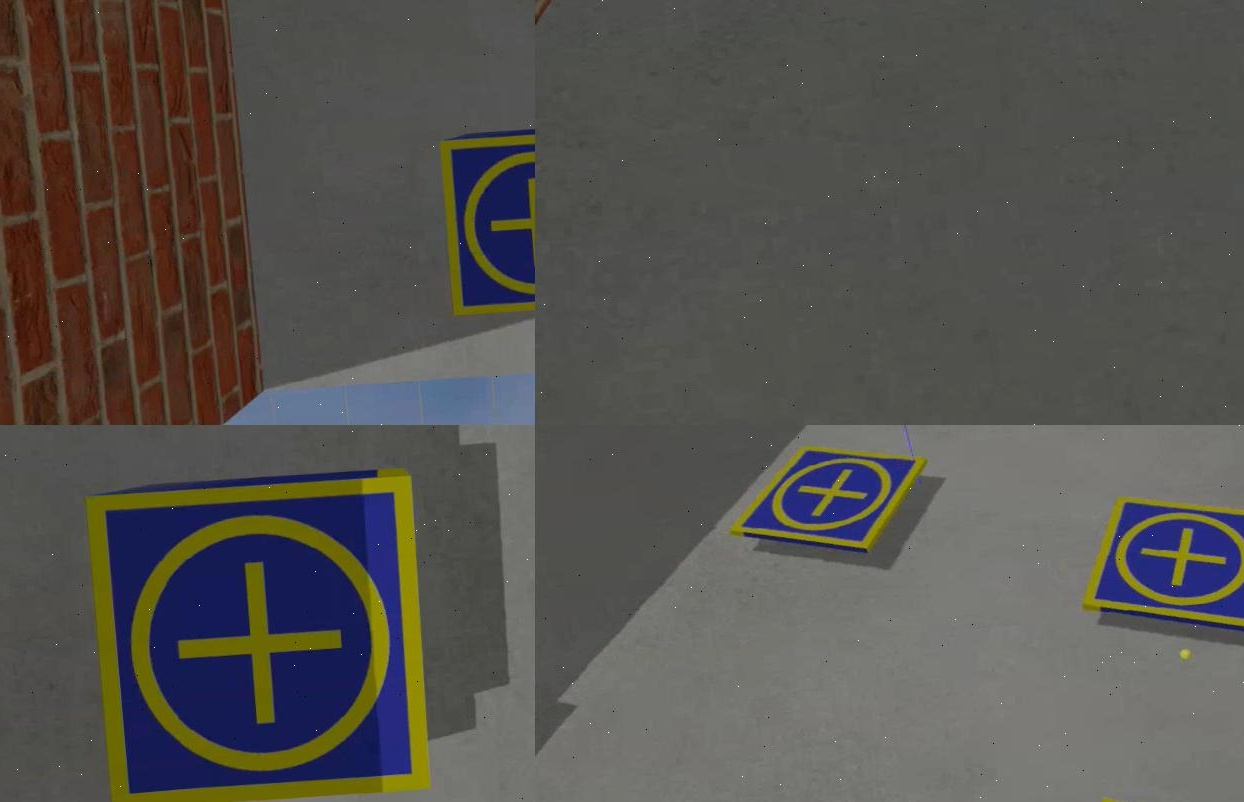small_base: (82, 472, 436, 802), (719, 435, 934, 572), (1070, 482, 1242, 650), (436, 123, 533, 322)
